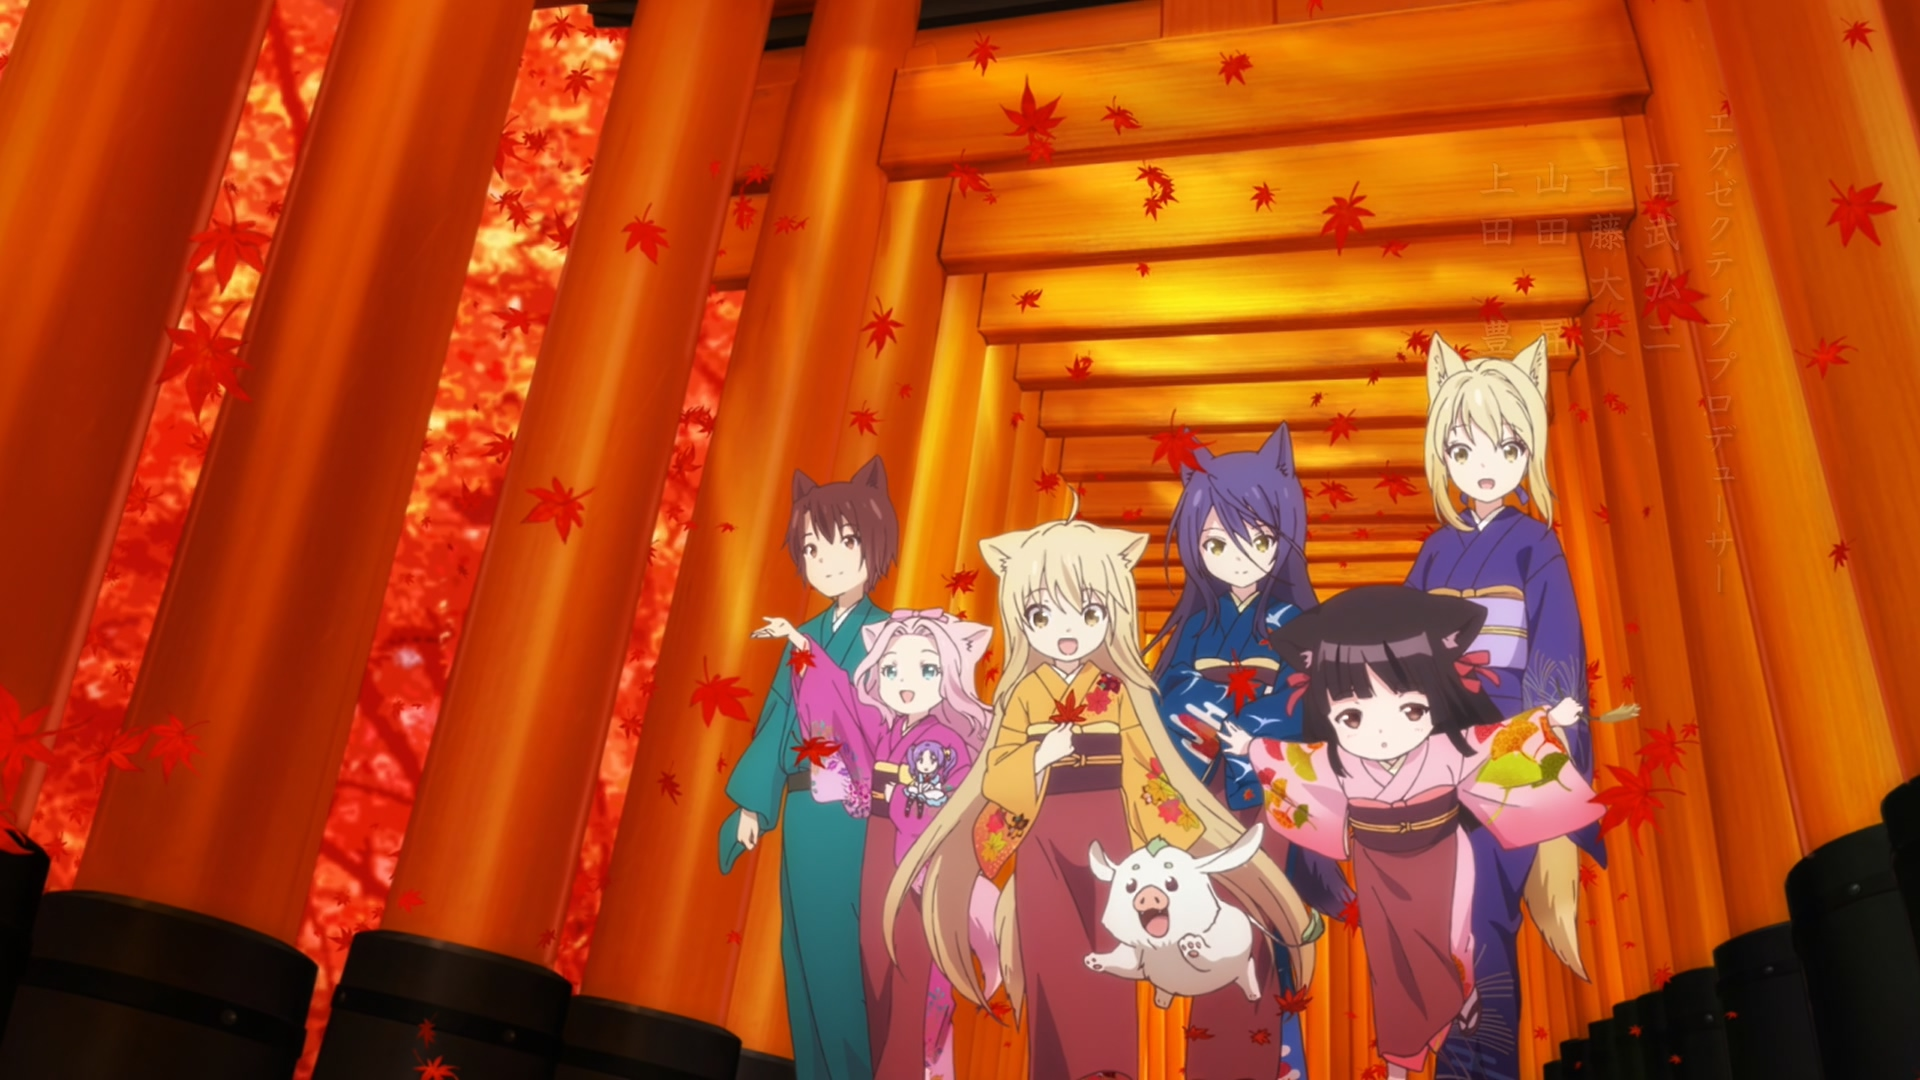枣: (720, 456, 905, 1080)
柚: (882, 491, 1316, 1080)
桐: (1402, 331, 1607, 1080)
樱: (1218, 585, 1606, 1080)
瓜之介: (1085, 823, 1327, 1011)
皋: (1139, 423, 1361, 1080)
莲: (753, 609, 994, 1080)
